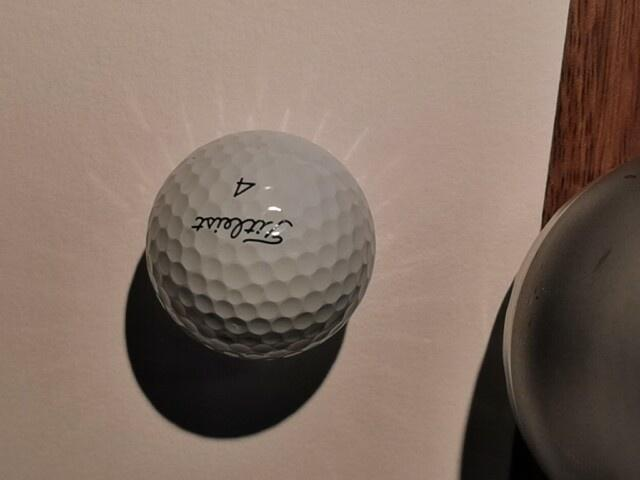Ball: (146, 129, 377, 361)
Titleist: (191, 216, 294, 245)
